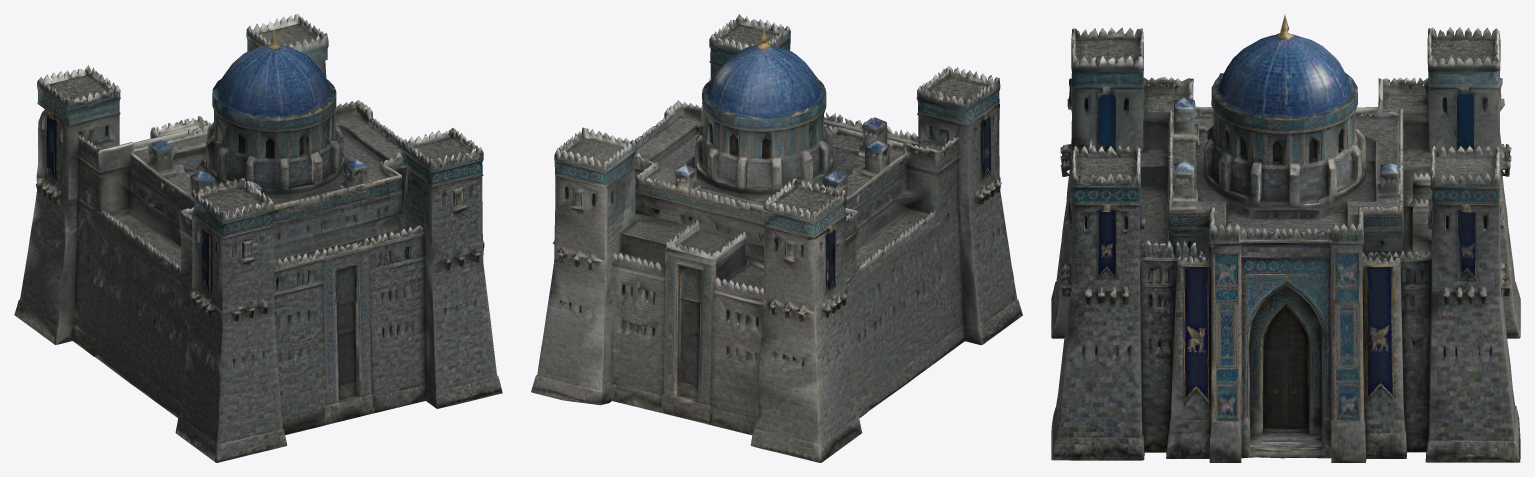
The model's file is castle_keep_stone_2.glb.
The picture shows the model from 3 angles, left to right: view 1: azimuth 30°, elevation 25°; view 2: azimuth 150°, elevation 25°; view 3: azimuth 270°, elevation 25°; orthographic projection. The views are drawn at different scales.
Visible parts, largest first — view 1: tripo_node_6b5b592e-fcbc-40c5-88a7-706b343df75c; view 2: tripo_node_6b5b592e-fcbc-40c5-88a7-706b343df75c; view 3: tripo_node_6b5b592e-fcbc-40c5-88a7-706b343df75c.
Part boxes in pixels (box(x1,y1,x2,y2)): tripo_node_6b5b592e-fcbc-40c5-88a7-706b343df75c: box(14, 14, 502, 462); tripo_node_6b5b592e-fcbc-40c5-88a7-706b343df75c: box(531, 14, 1022, 462); tripo_node_6b5b592e-fcbc-40c5-88a7-706b343df75c: box(1051, 14, 1520, 462).
Size of the model in its own units: 0.8132 by 0.8624 by 0.9807.
Materials: 1 (1 with a texture image).
